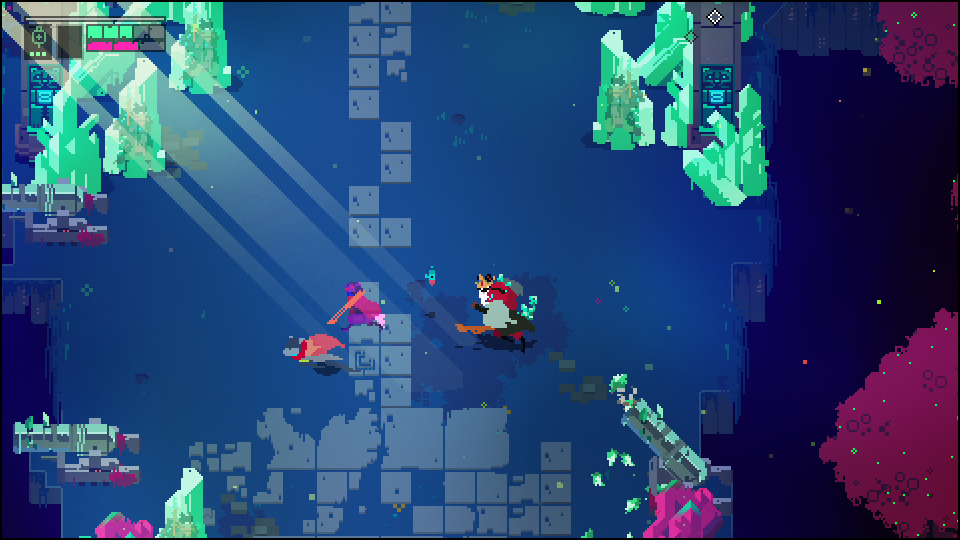hanged_man: (447, 272, 542, 349)
player: (277, 332, 350, 376)
